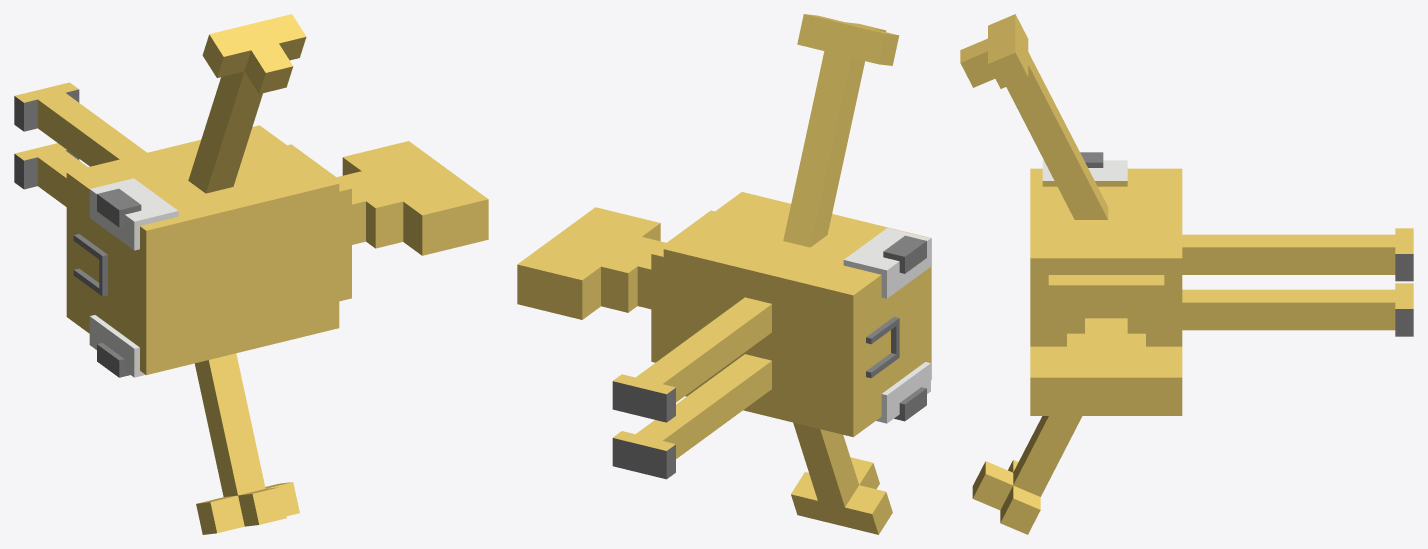
File: lepoisson.glb
3 views of the same model, side by side, from view 1: azimuth 30°, elevation 25°; view 2: azimuth 150°, elevation 25°; view 3: azimuth 270°, elevation 25° (orthographic). The views are drawn at different scales.
Visible parts, largest first — view 1: g Body1:2, g Body1, g Body1:1, g Body5, g Body4; view 2: g Body1:2, g Body1, g Body5, g Body4, g Body1:1; view 3: g Body1:2, g Body4, g Body5, g Body1, g Body1:1.
Part boxes in pixels (box(x1,y1,x2,y2)): g Body1:2: box(66, 125, 488, 377); g Body1: box(188, 14, 306, 193); g Body1:1: box(194, 353, 299, 534); g Body5: box(14, 82, 146, 166); g Body4: box(14, 143, 87, 206); g Body1:2: box(517, 192, 931, 437); g Body1: box(783, 14, 899, 247); g Body5: box(612, 297, 771, 422); g Body4: box(612, 354, 771, 479); g Body1:1: box(791, 422, 892, 534); g Body1:2: box(1030, 152, 1182, 415); g Body4: box(1182, 283, 1413, 336); g Body5: box(1182, 228, 1413, 281); g Body1: box(960, 14, 1108, 219); g Body1:1: box(972, 416, 1082, 534).
Size of the model in its own units: 6.4 by 8.75 by 7.45.
